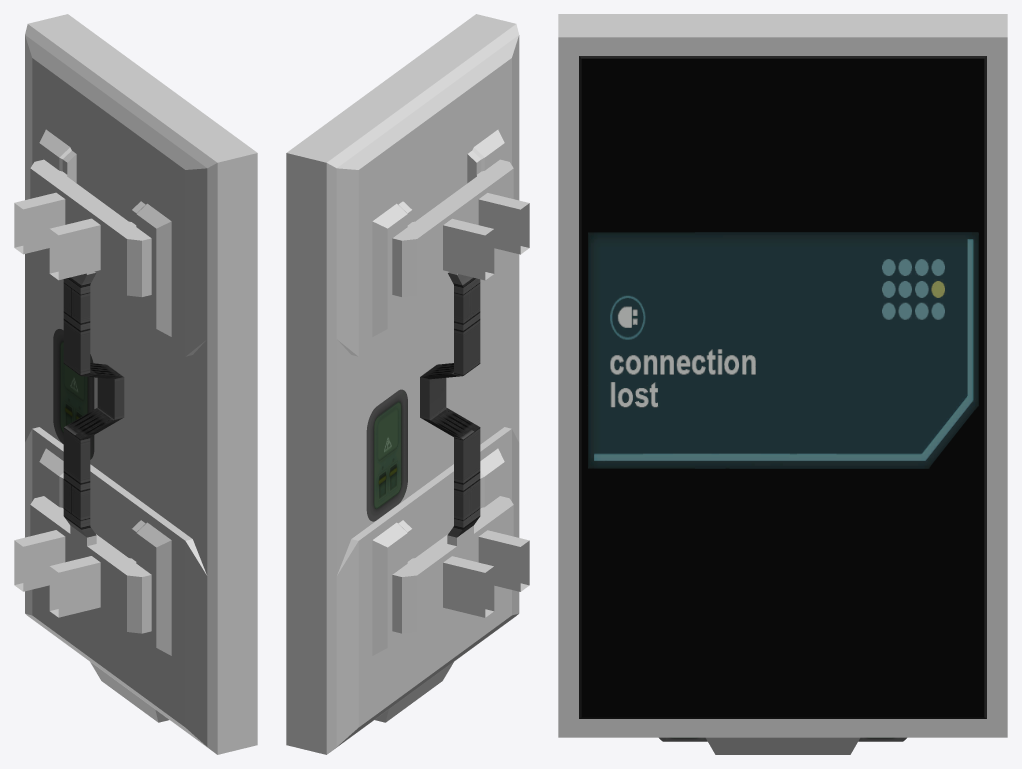
File: sign-disconnected.obj
3 views of the same model, side by side, from view 1: azimuth 30°, elevation 25°; view 2: azimuth 150°, elevation 25°; view 3: azimuth 270°, elevation 25° (orthographic). The views are drawn at different scales.
Parts seen in each view (by area): view 1: Mesh1 NM_Sign_Variety_X1 Model, Mesh2 NM_Sign_Variety_X1 Model; view 2: Mesh1 NM_Sign_Variety_X1 Model, Mesh2 NM_Sign_Variety_X1 Model; view 3: Mesh1 NM_Sign_Variety_X1 Model.
Part boxes in pixels (<box>): Mesh1 NM_Sign_Variety_X1 Model: <box>14,14,257,754</box>; Mesh2 NM_Sign_Variety_X1 Model: <box>53,329,94,459</box>; Mesh1 NM_Sign_Variety_X1 Model: <box>286,14,529,754</box>; Mesh2 NM_Sign_Variety_X1 Model: <box>366,389,407,521</box>; Mesh1 NM_Sign_Variety_X1 Model: <box>558,14,1007,754</box>.
Size of the model in its own units: 1.39 by 6.37 by 3.59.
